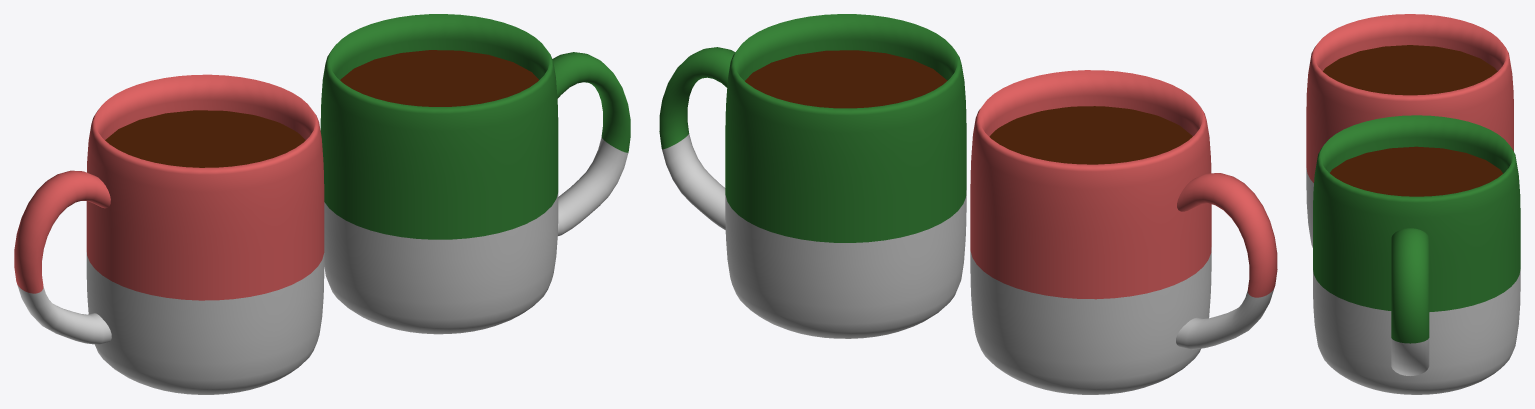
The model's file is Mugs.glb.
3 renders of one model, left to right at view 1: azimuth 30°, elevation 25°; view 2: azimuth 150°, elevation 25°; view 3: azimuth 270°, elevation 25°, orthographic. The views are drawn at different scales.
Visible parts, largest first — view 1: Cylinder001, Cylinder002, Cylinder004, Cylinder003, Arc002, Arc001; view 2: Cylinder001, Cylinder002, Cylinder004, Cylinder003, Arc002, Arc001; view 3: Cylinder001, Cylinder002, Cylinder004, Cylinder003, Arc001.
Part boxes in pixels (<box>): Cylinder001: <box>320,14,558,334</box>; Cylinder002: <box>86,74,324,394</box>; Cylinder004: <box>105,110,305,167</box>; Cylinder003: <box>340,50,538,106</box>; Arc002: <box>14,170,111,344</box>; Arc001: <box>552,52,630,235</box>; Cylinder001: <box>725,14,966,338</box>; Cylinder002: <box>970,70,1211,394</box>; Cylinder004: <box>989,106,1192,164</box>; Cylinder003: <box>745,50,947,108</box>; Arc002: <box>1176,173,1277,349</box>; Arc001: <box>659,47,735,229</box>; Cylinder001: <box>1313,115,1520,394</box>; Cylinder002: <box>1306,14,1513,247</box>; Cylinder004: <box>1323,45,1497,95</box>; Cylinder003: <box>1330,146,1502,196</box>; Arc001: <box>1391,228,1429,375</box>.
Bounding box in the file's own units: 98.07 × 37.34 × 34.62.
